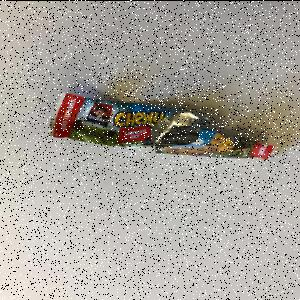Trash: (47, 92, 278, 166)
